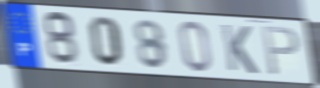0: (87, 15, 124, 68), (177, 20, 213, 74)
8: (42, 10, 80, 68), (133, 18, 168, 70)
K: (219, 22, 261, 76)
P: (261, 25, 302, 78)
